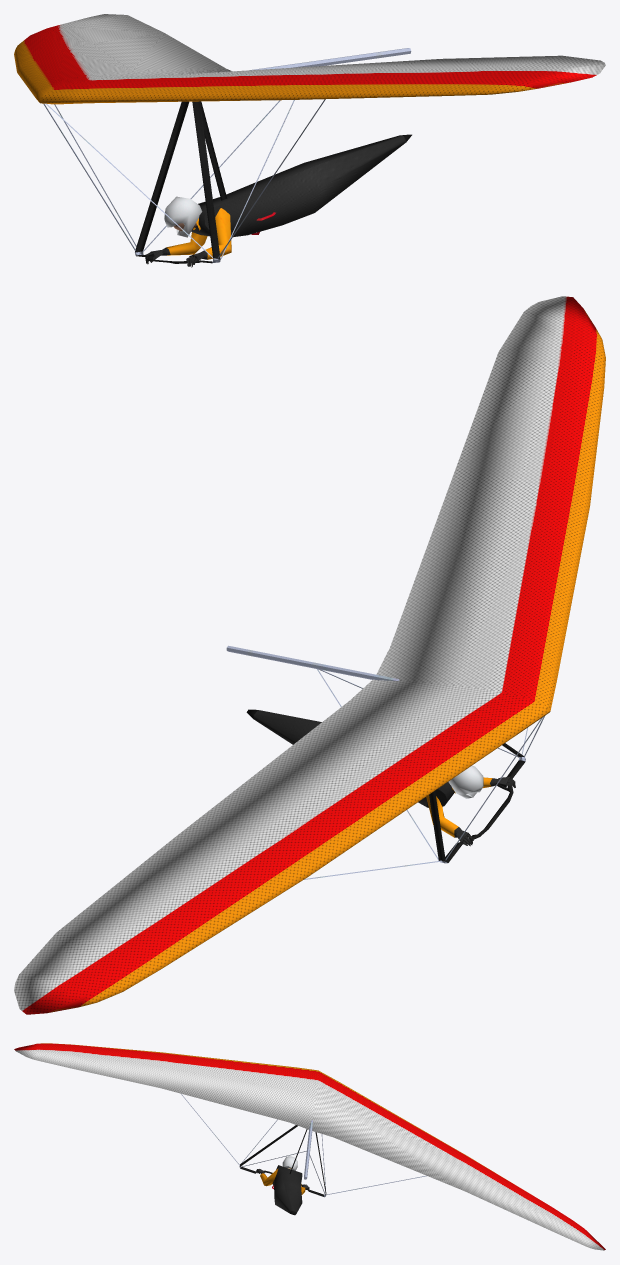
The model's file is hang-glider-red-ridge-cbj_LOD01.gltf.
3 renders of one model, top to bottom at view 1: azimuth 30°, elevation 25°; view 2: azimuth 150°, elevation 25°; view 3: azimuth 270°, elevation 25°, orthographic. The views are drawn at different scales.
Visible parts, largest first — view 1: hang-glider00; view 2: hang-glider00; view 3: hang-glider00.
Part boxes in pixels (x1,y1,x2,y2): hang-glider00: (14, 14, 605, 267); hang-glider00: (14, 296, 605, 1014); hang-glider00: (14, 1043, 605, 1250).
Size of what is drawn, in the model's own units: 3.48 by 3.41 by 9.45.
